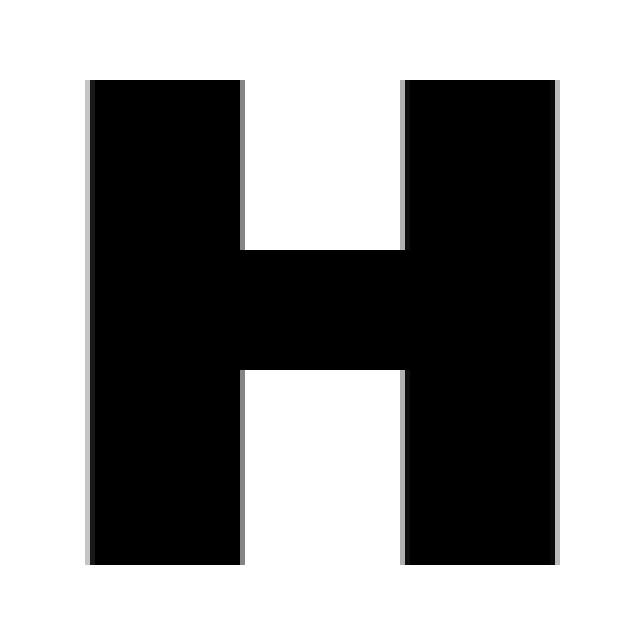H: (90, 80, 555, 565)
